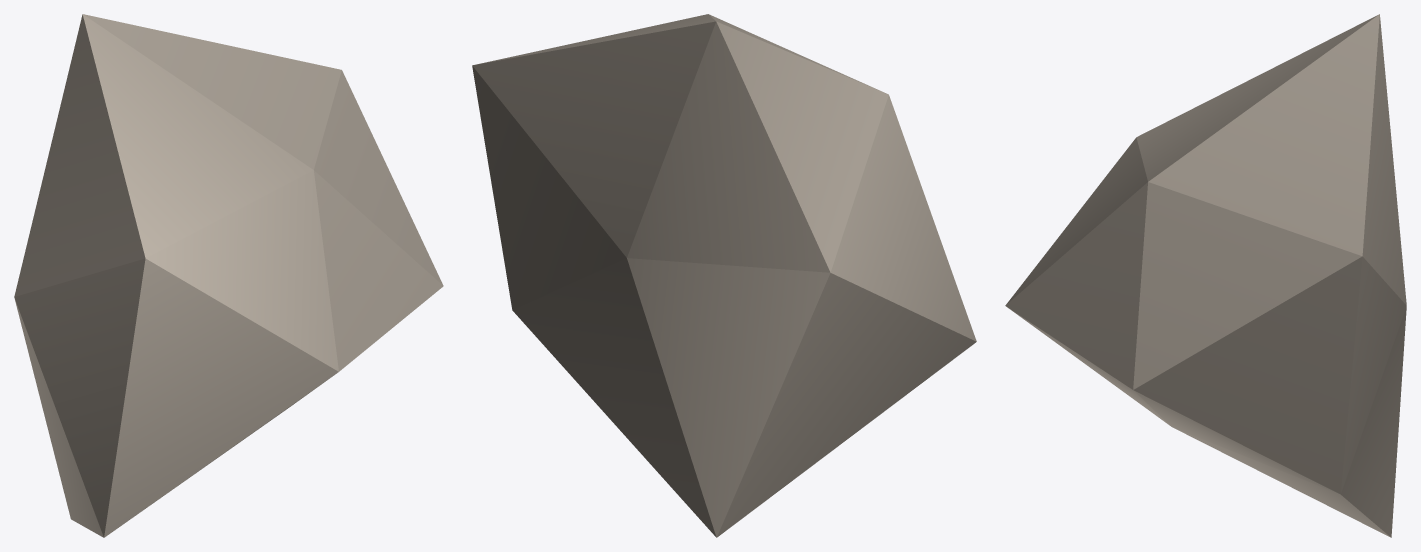
The model's file is asteroid.glb.
The picture shows the model from 3 angles, left to right: view 1: azimuth 30°, elevation 25°; view 2: azimuth 150°, elevation 25°; view 3: azimuth 270°, elevation 25°; orthographic projection. The views are drawn at different scales.
Visible parts, largest first — view 1: asteroid; view 2: asteroid; view 3: asteroid.
Part boxes in pixels (box(x1,y1,x2,y2)): asteroid: box(14, 14, 443, 537); asteroid: box(472, 14, 976, 537); asteroid: box(1005, 14, 1406, 537).
Size of the model in its own units: 1.25 by 1.64 by 1.13.
